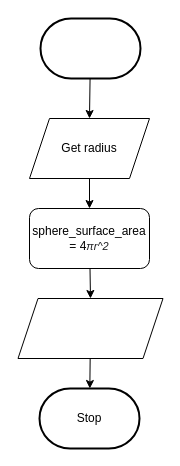
The diagram is 180 pixels wide and 466 high, and some of its shapes have lost their labels. Each missing label, with the centre of its shape:
return sphere_surface_area: point 90,328
Start: point 90,48
